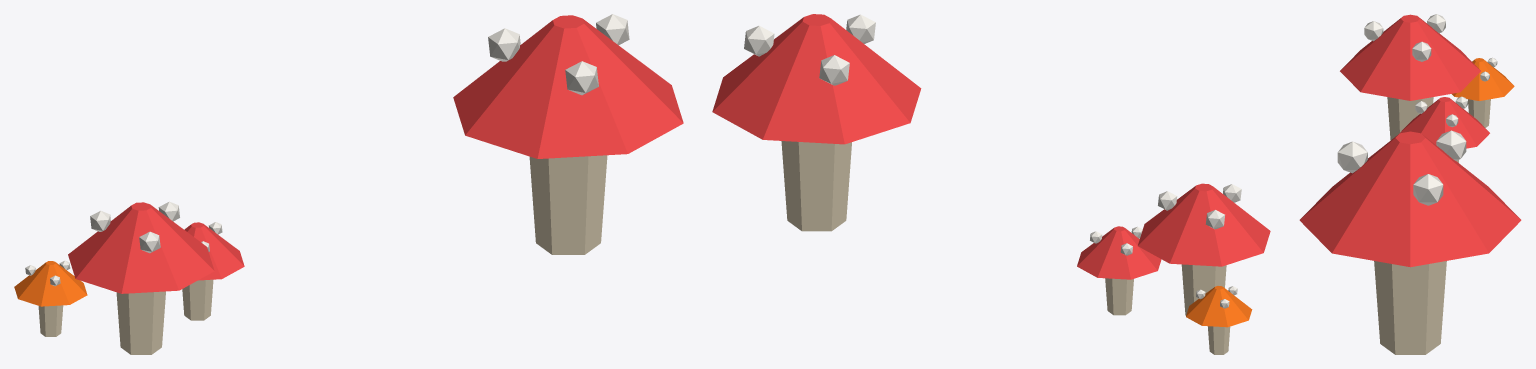
The model's file is jamur_v001.glb.
3 views of the same model, side by side, from view 1: azimuth 30°, elevation 25°; view 2: azimuth 150°, elevation 25°; view 3: azimuth 270°, elevation 25° (orthographic). The views are drawn at different scales.
Visible parts, largest first — view 1: Jamur_B, Jamur_A; view 2: Jamur_B, Jamur_A; view 3: Jamur_B, Jamur_A.
Part boxes in pixels (box(x1,y1,x2,y2)): Jamur_B: box(453, 14, 683, 254); Jamur_A: box(14, 201, 244, 354); Jamur_B: box(712, 14, 921, 231); Jamur_A: box(1077, 183, 1270, 354); Jamur_B: box(1299, 130, 1521, 354); Jamur_A: box(1340, 14, 1514, 162).
Size of the model in its own units: 2.89 by 0.99 by 0.968.
